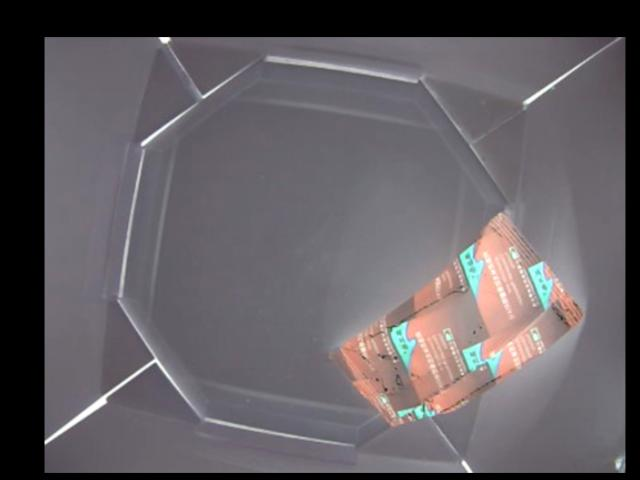Medicine: (327, 211, 586, 425)
